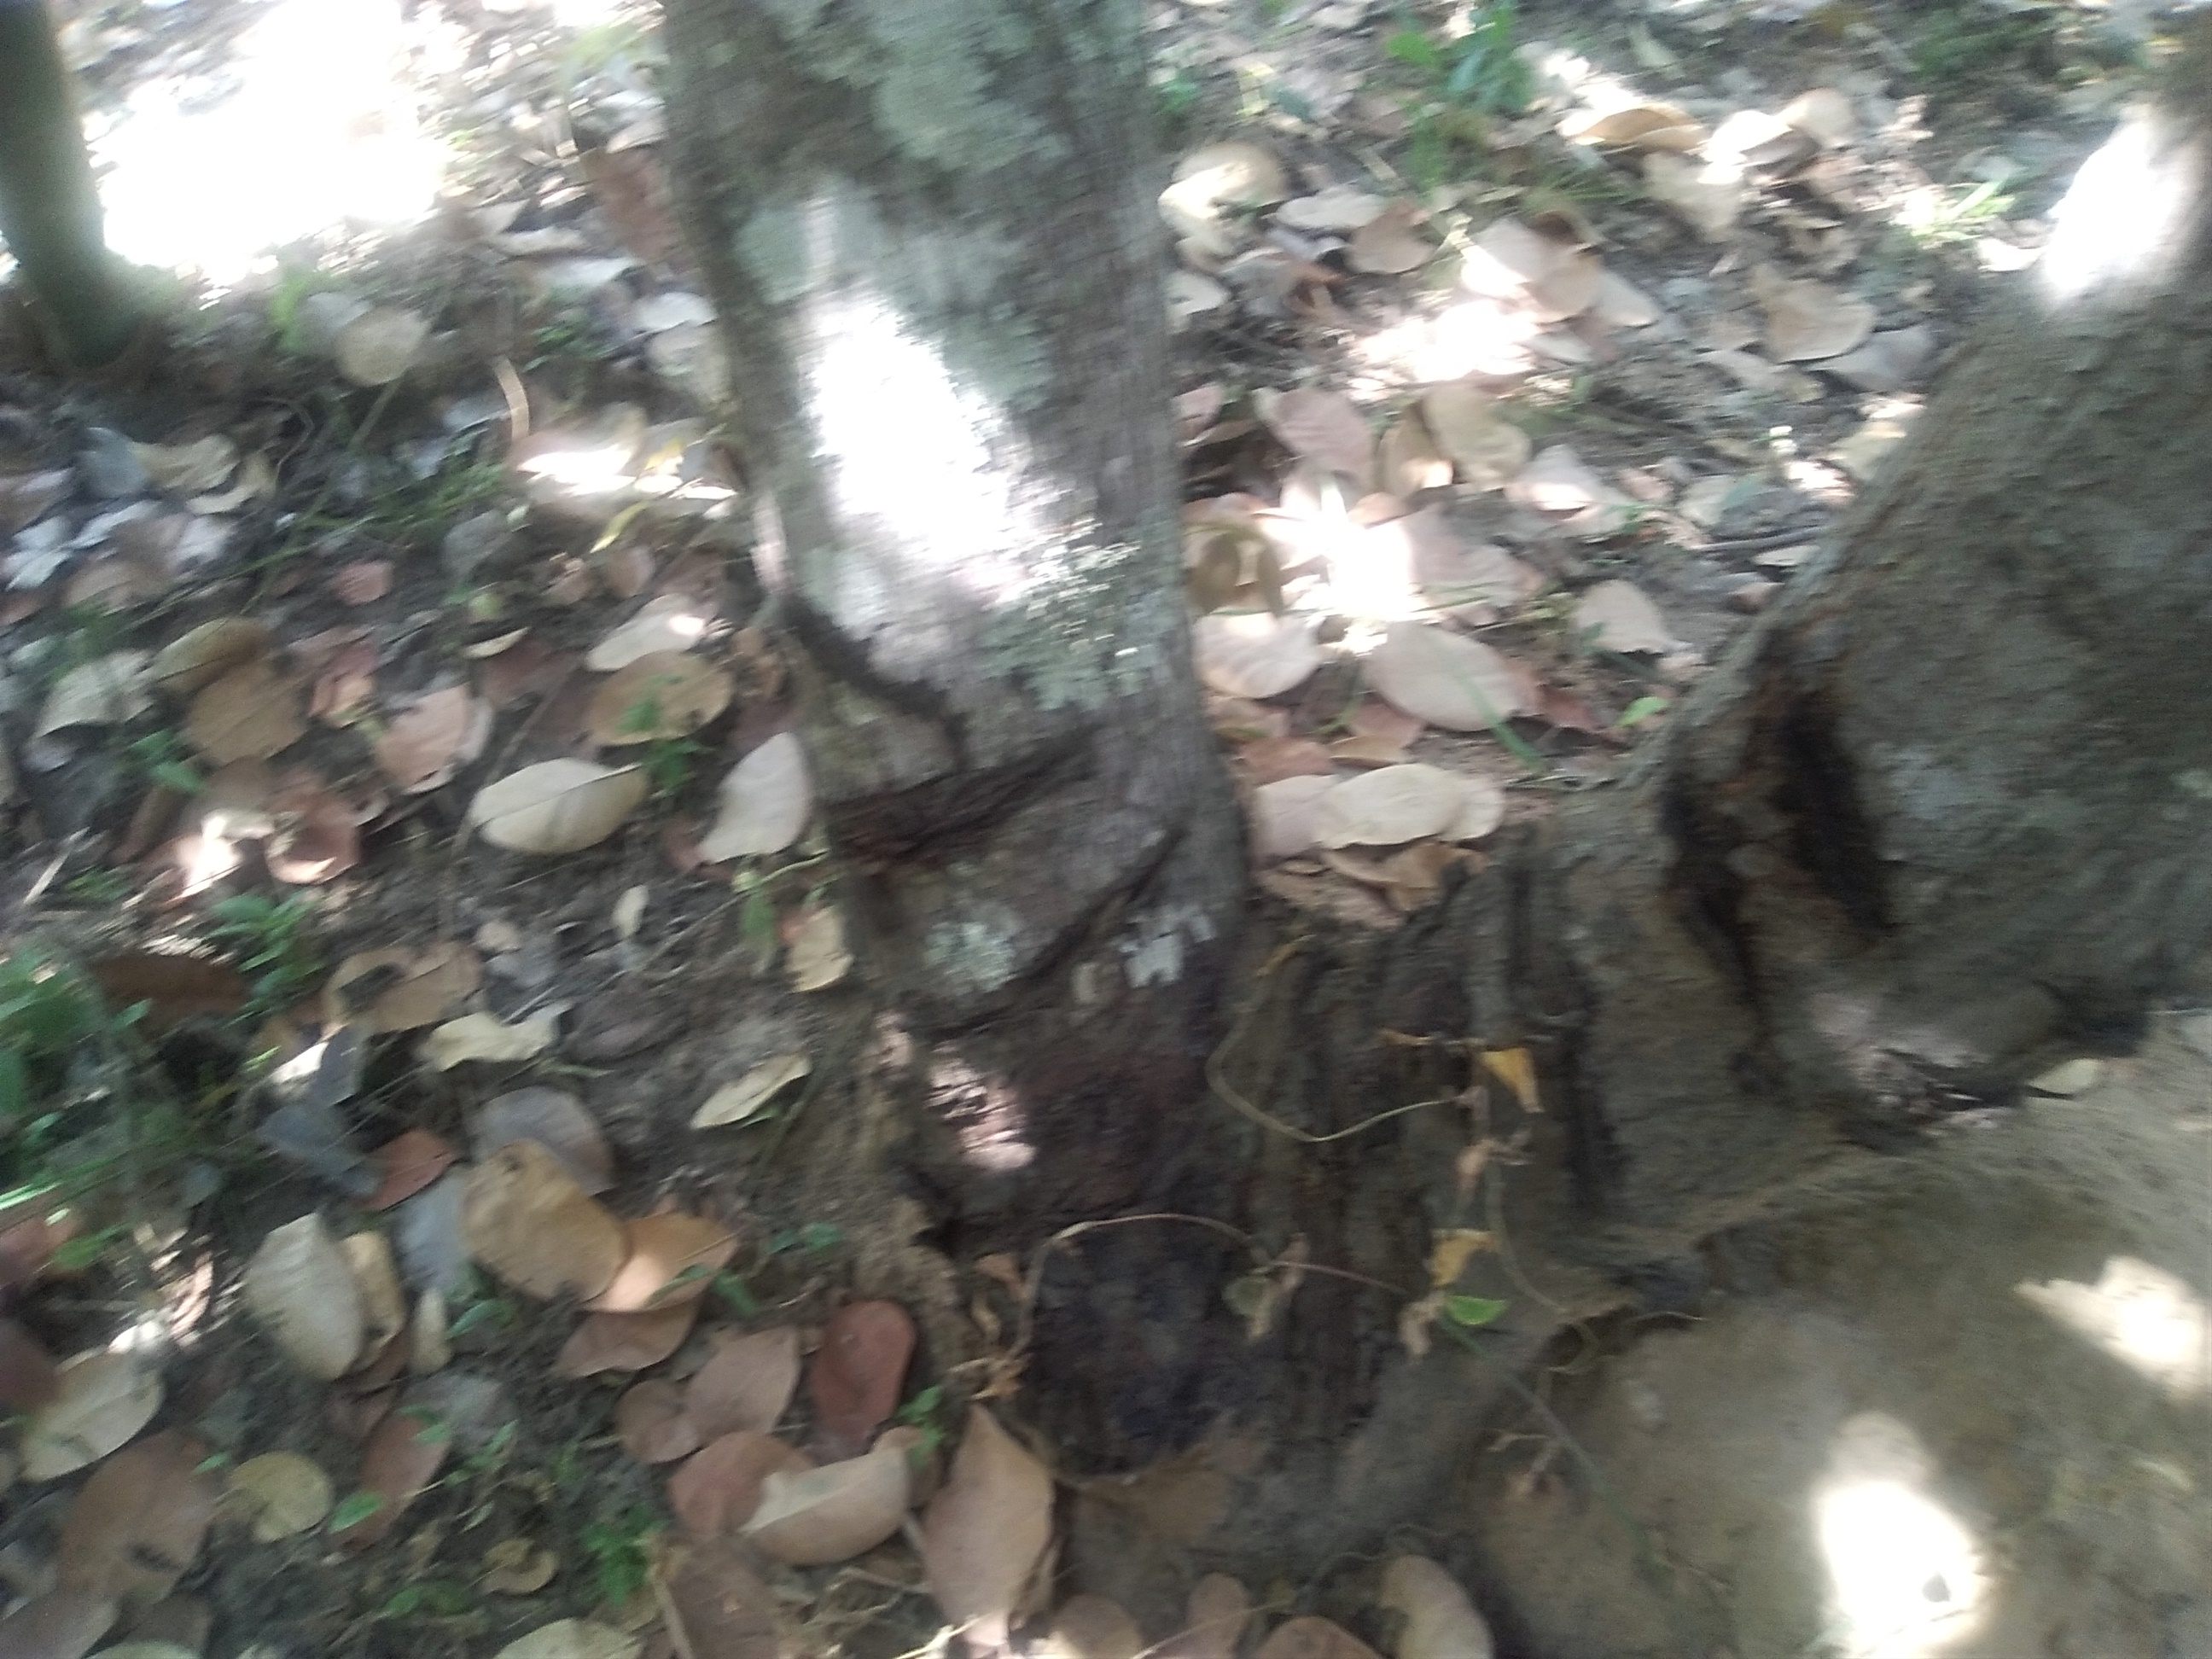Gommose: (845, 767, 1331, 1462), (1642, 721, 1881, 953)
